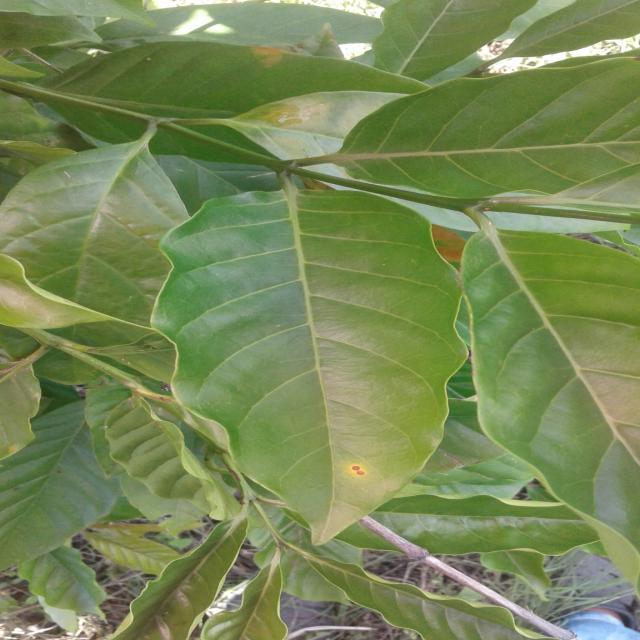Enfermedad-Roya: (151, 189, 463, 545)
